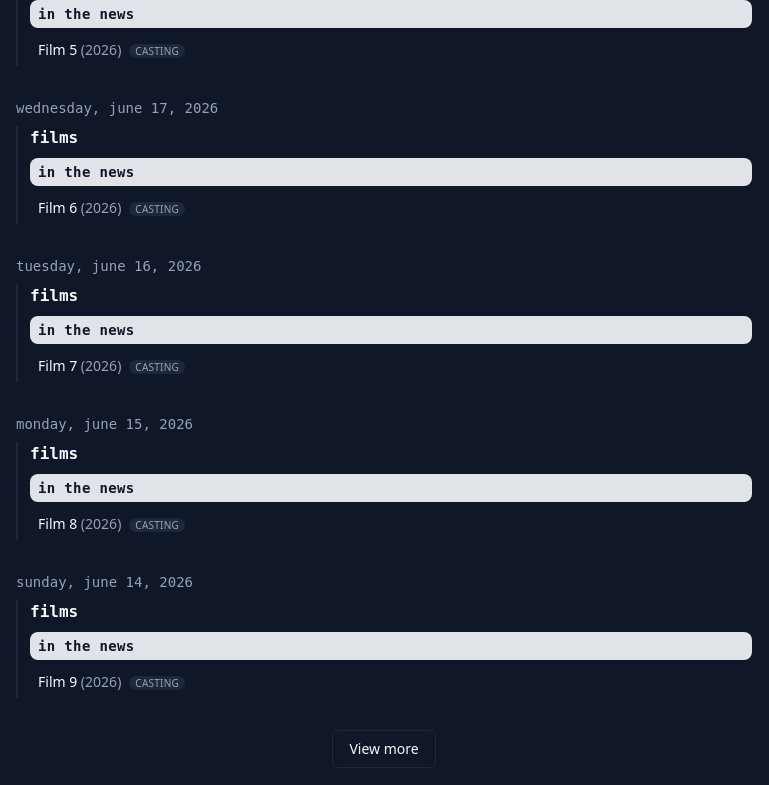
home route — signed in and entitled › fetches the next page of days when there are more than fit on one
The width and height of the screenshot is (769, 785).
(page scrolled)
Expected: the text "Film 10" is not shown
Step 1. Click the button "View more" → (384, 749), box [332,730,436,768]
(page scrolled)
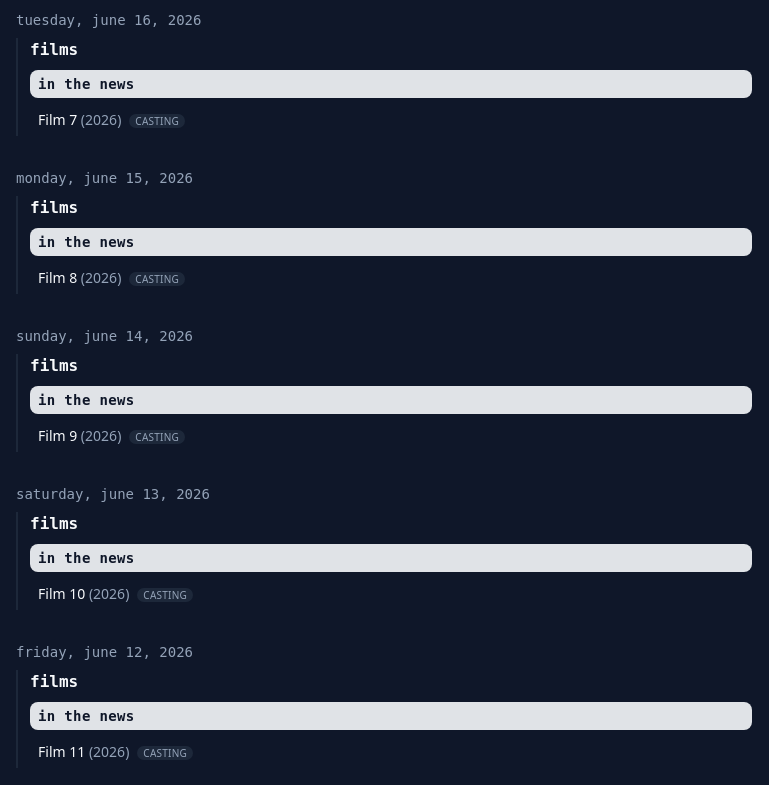
Expected: the link "Film 10 (2026) Casting" is shown, [38,584,193,603]
Expected: the link "Film 11 (2026) Casting" is shown, [38,742,193,761]
